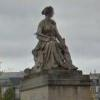Statue: (23, 3, 78, 84)
